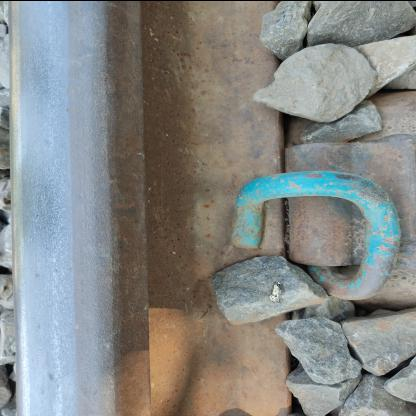Non Defective: (193, 128, 403, 332)
